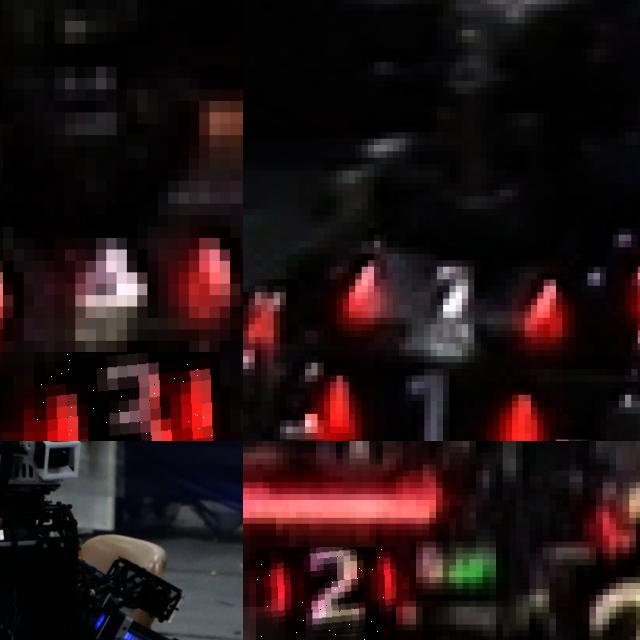R1: (311, 356, 549, 441), (336, 241, 556, 331)
R2: (256, 547, 396, 640)
R3: (34, 352, 220, 441)
